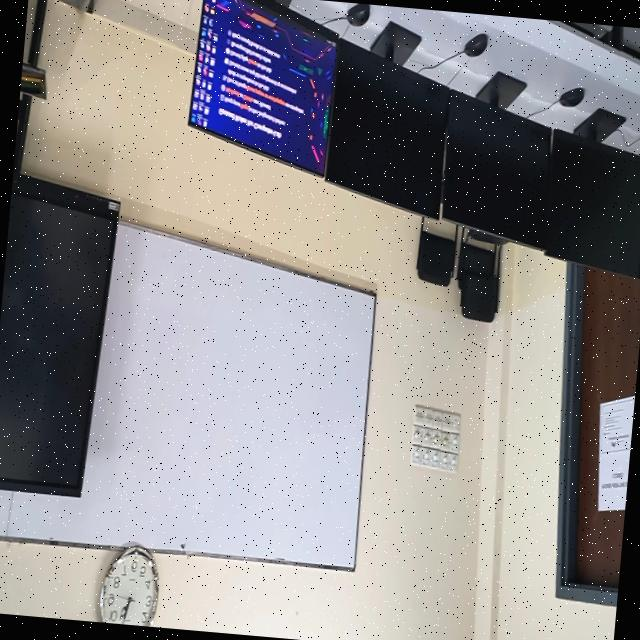Chair: (456, 228, 507, 322), (415, 216, 455, 285)
Digital board: (0, 95, 118, 495)
Monitor: (188, 0, 335, 175), (324, 38, 448, 218), (441, 89, 550, 248), (542, 119, 640, 277)
Mouse: (345, 2, 369, 26), (462, 34, 487, 56), (557, 86, 583, 106)
